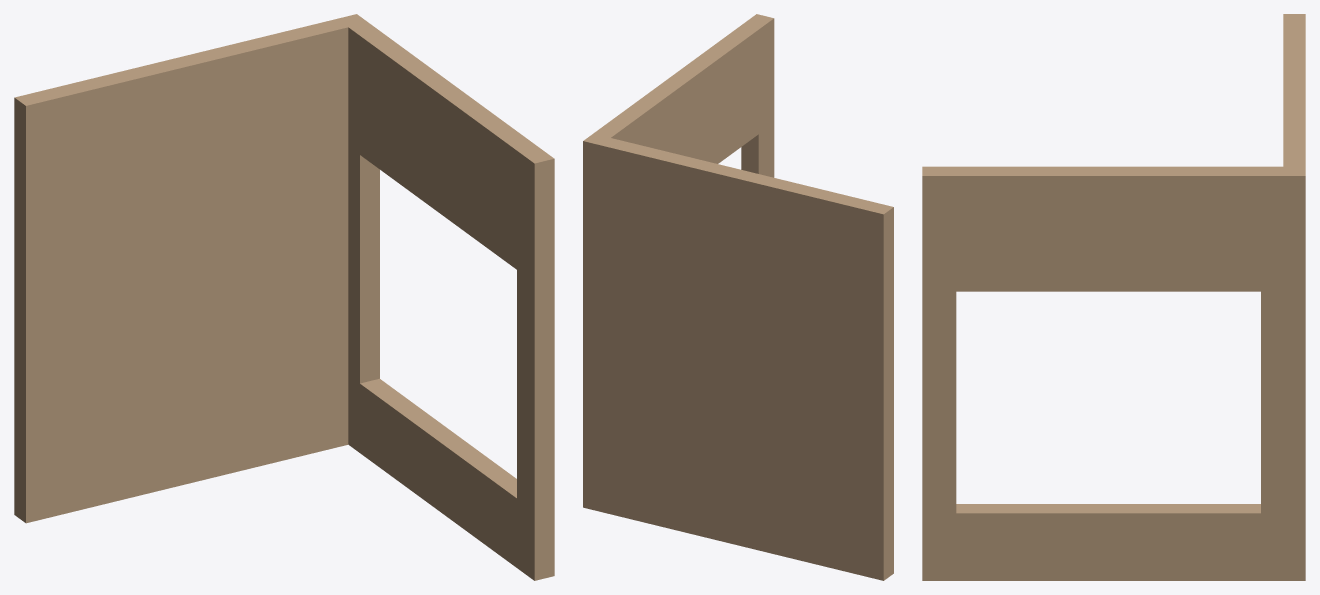
Rendered from Wall2_C1_14.fbx.
The picture shows the model from 3 angles, left to right: view 1: azimuth 30°, elevation 25°; view 2: azimuth 150°, elevation 25°; view 3: azimuth 270°, elevation 25°; orthographic projection. The views are drawn at different scales.
Visible parts, largest first — view 1: Wall2_C1_14; view 2: Wall2_C1_14; view 3: Wall2_C1_14.
Part boxes in pixels (bbox=[...]): Wall2_C1_14: bbox=[14, 14, 554, 580]; Wall2_C1_14: bbox=[583, 14, 893, 580]; Wall2_C1_14: bbox=[922, 14, 1305, 580].
Size of the model in its own units: 258 by 300 by 258.
